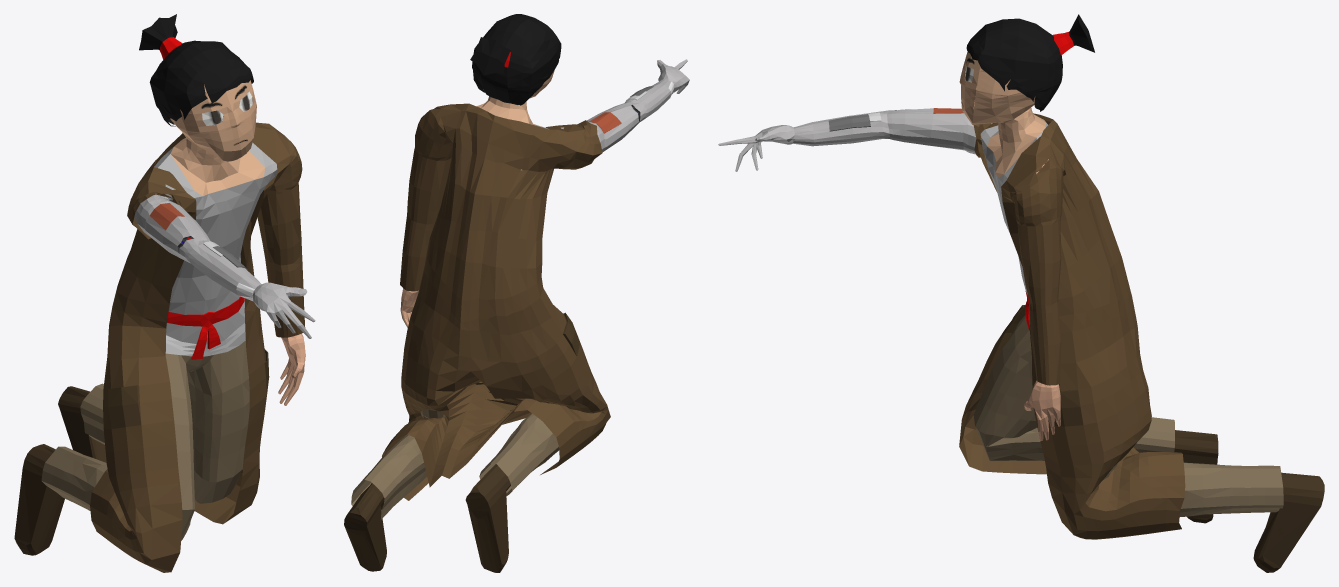
The model's file is One_Die_000030.obj.
The picture shows the model from 3 angles, left to right: view 1: azimuth 30°, elevation 25°; view 2: azimuth 150°, elevation 25°; view 3: azimuth 270°, elevation 25°; orthographic projection. The views are drawn at different scales.
Parts seen in each view (by area): view 1: Hair_Cube.004; view 2: Hair_Cube.004; view 3: Hair_Cube.004.
Boxes of the visible parts, box(x1,y1,x2,y2) form: Hair_Cube.004: box(14, 14, 315, 572); Hair_Cube.004: box(344, 14, 689, 572); Hair_Cube.004: box(718, 14, 1324, 572).
Bounding box in the file's own units: 1.15 × 3.03 × 3.1.
